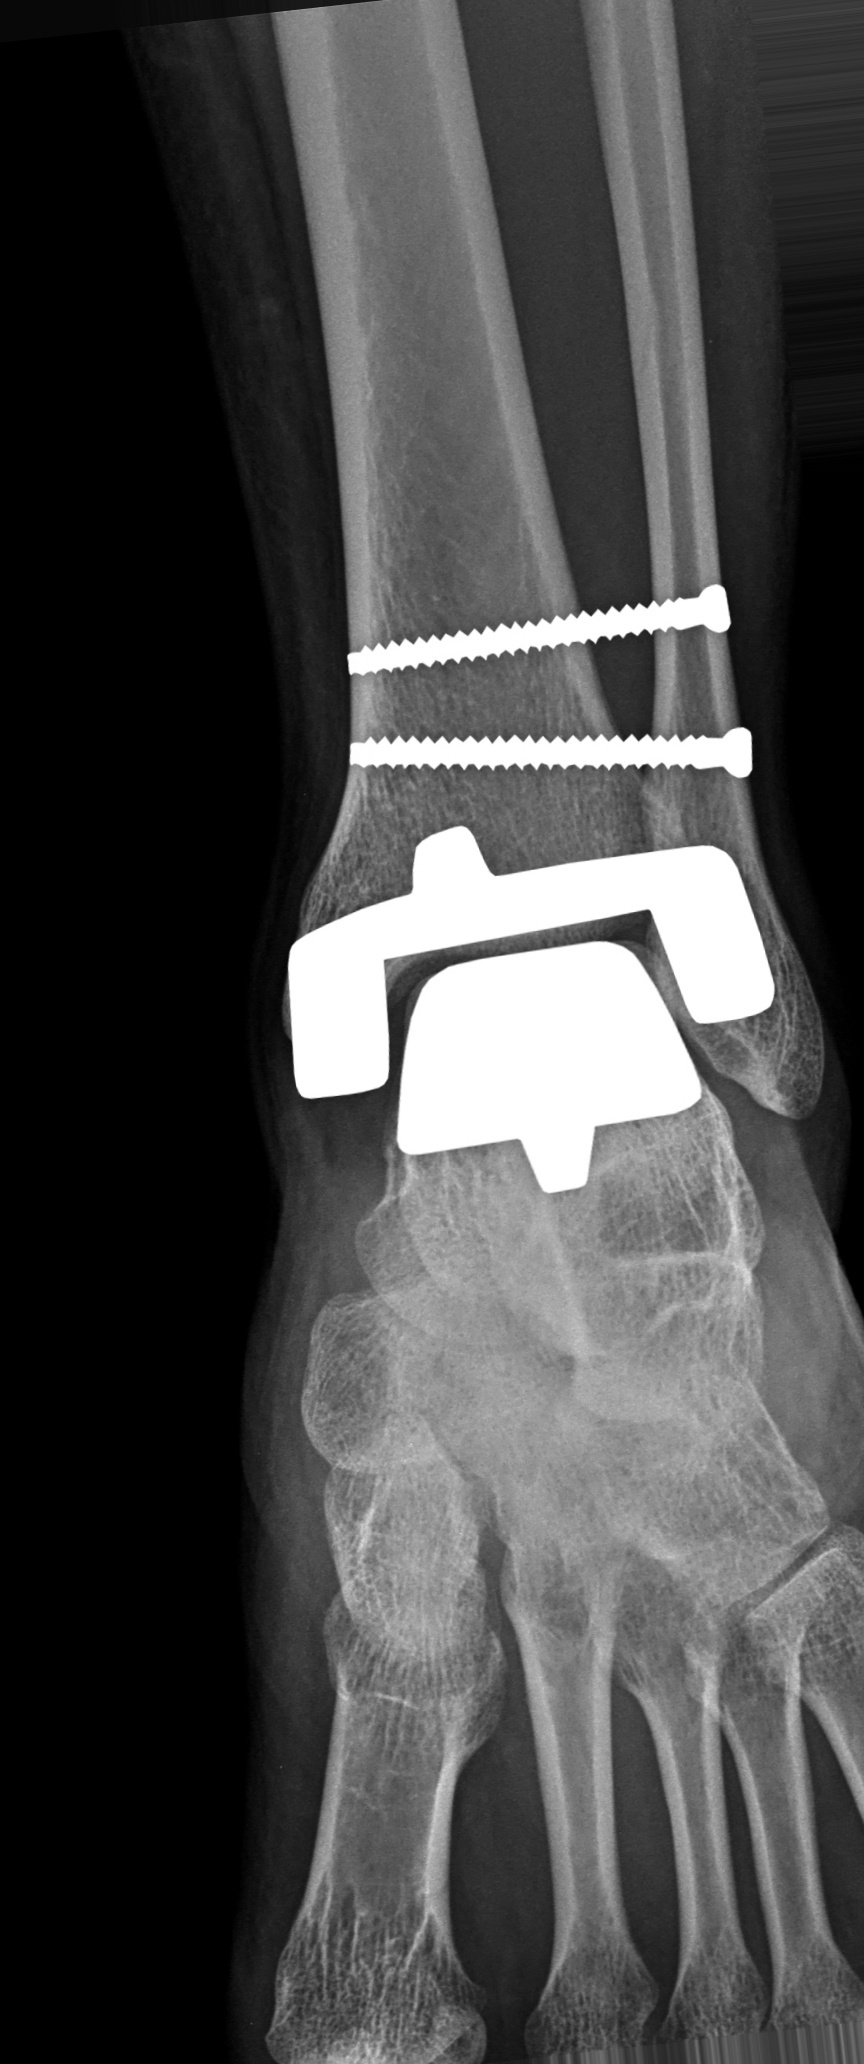Ankle - Agility - DePuy: (213, 569, 806, 1219)
